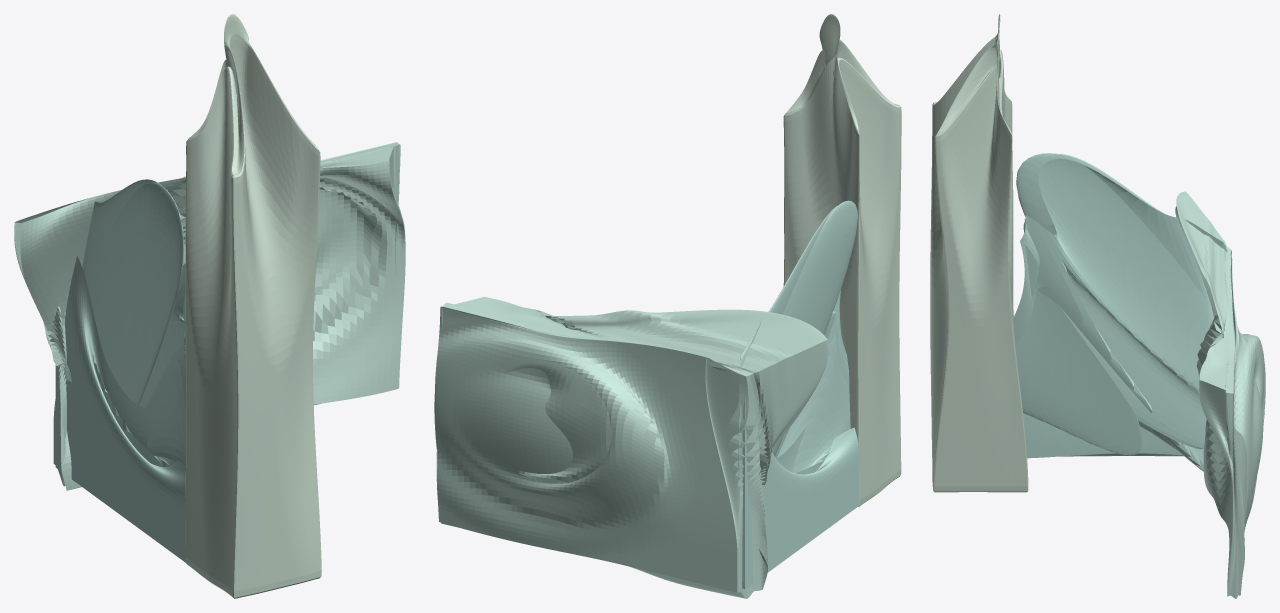
File: temple.fbx 18-20-57-515.fbx
The picture shows the model from 3 angles, left to right: view 1: azimuth 30°, elevation 25°; view 2: azimuth 150°, elevation 25°; view 3: azimuth 270°, elevation 25°; orthographic projection. The views are drawn at different scales.
Visible parts, largest first — view 1: Cube, Cube.001, Cube.002; view 2: Cube.002, Cube, Cube.001; view 3: Cube.001, Cube, Cube.002.
Boxes of the visible parts, x1,y1,x2,y2 form: Cube: (185,14,321,598); Cube.001: (55,179,185,562); Cube.002: (14,142,405,490); Cube.002: (434,296,828,598); Cube: (783,14,901,506); Cube.001: (738,200,859,588); Cube.001: (1014,153,1227,471); Cube: (930,14,1028,492); Cube.002: (1175,191,1265,598).
Bounding box in the file's own units: 937 × 1197 × 775.
